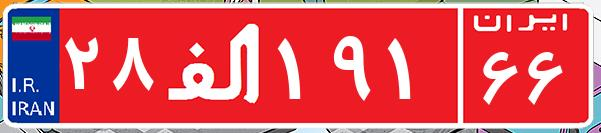1: (385, 28, 445, 110), (273, 28, 330, 110)
2: (57, 26, 110, 107)
6: (475, 38, 525, 113), (525, 38, 570, 115)
8: (110, 28, 158, 105)
9: (330, 28, 385, 110)
الف: (158, 15, 273, 115)
